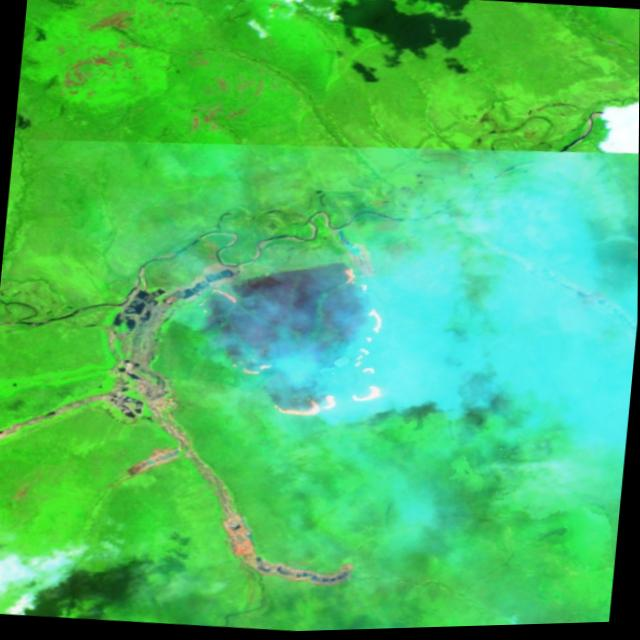fire: (191, 254, 399, 428)
